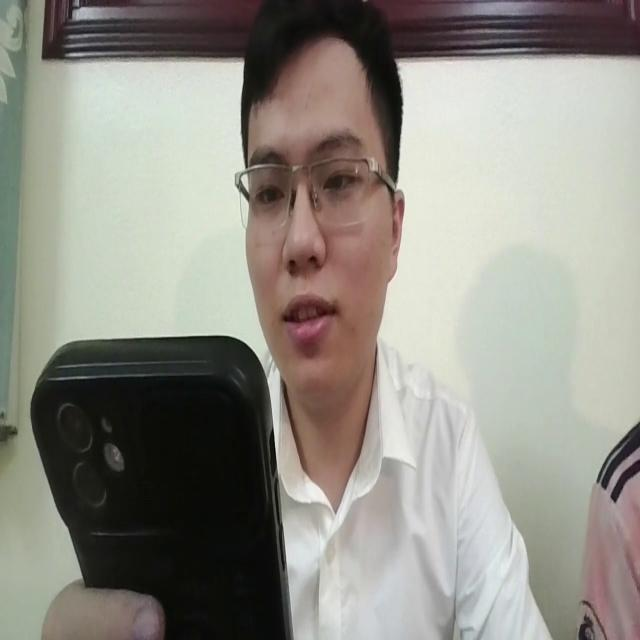phone: (31, 325, 296, 640)
student: (231, 6, 563, 640)
